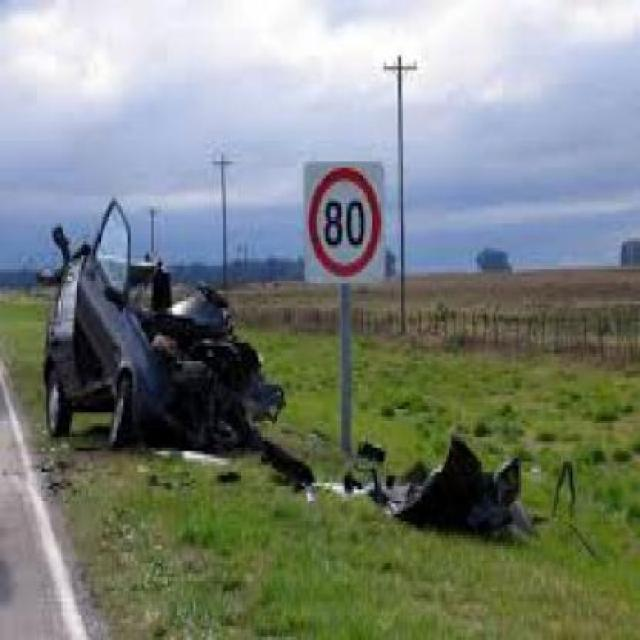forb_speed_over_80: (309, 165, 380, 276)
